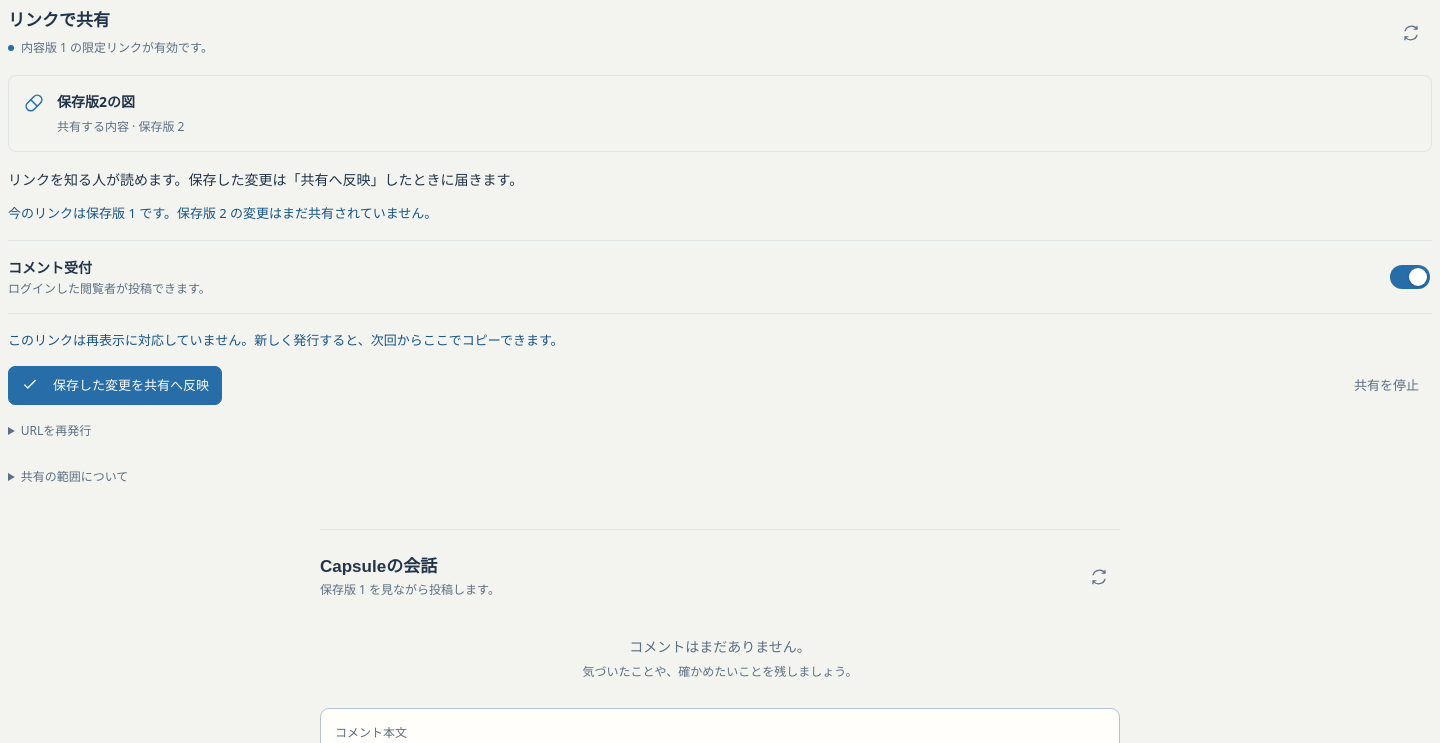
Test case: 共有版の会話 › 共有パネル内では実際に共有中の版の会話を開き、受付switchを一つにまとめる
The image size is (1440, 743).
Expected: the text "今のリンクは保存版 1 です。保存版 2 の変更はまだ共有されていません。" is shown, [8, 204, 437, 222]
Click the switch named "コメント受付" at [1410, 277], box [1388, 255, 1432, 299]
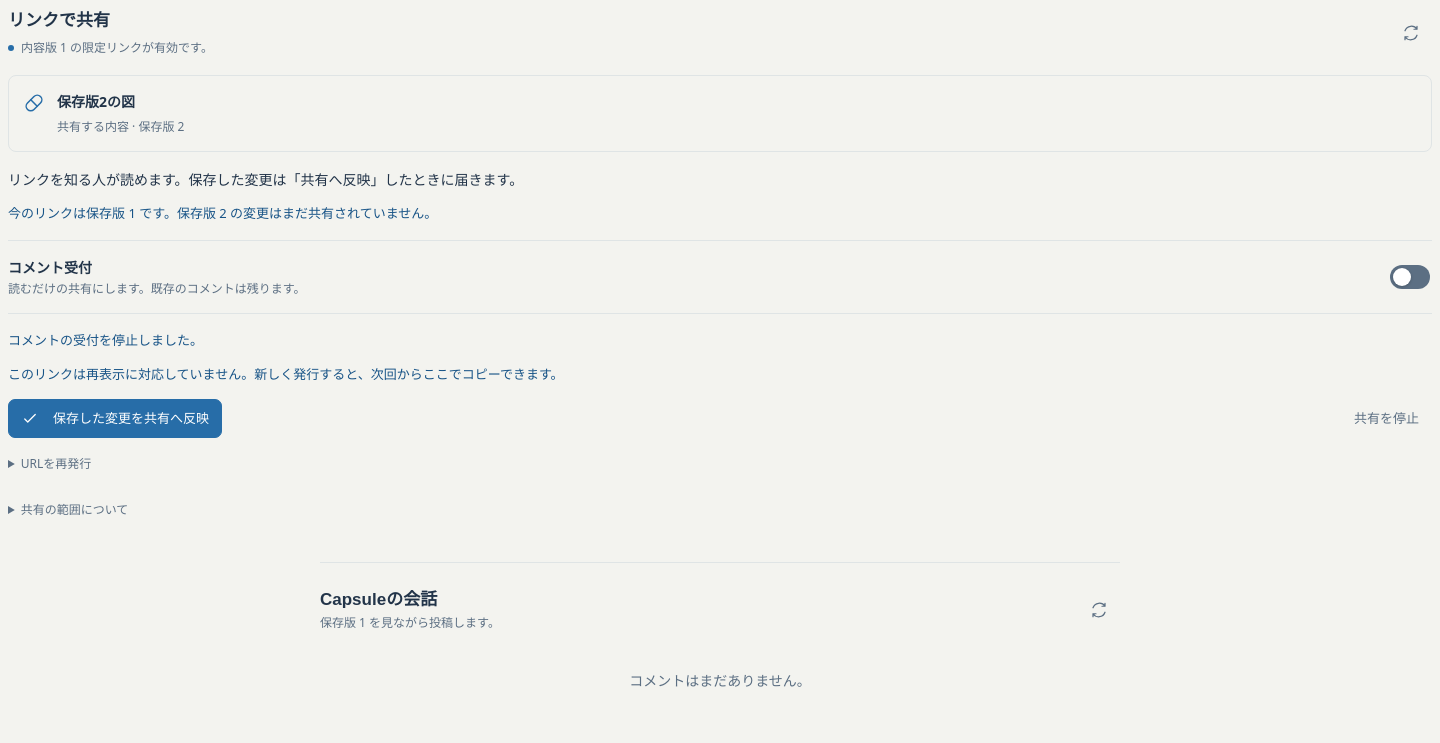
Expected: the text "コメントの受付を停止しました。" is shown, [8, 331, 203, 349]
